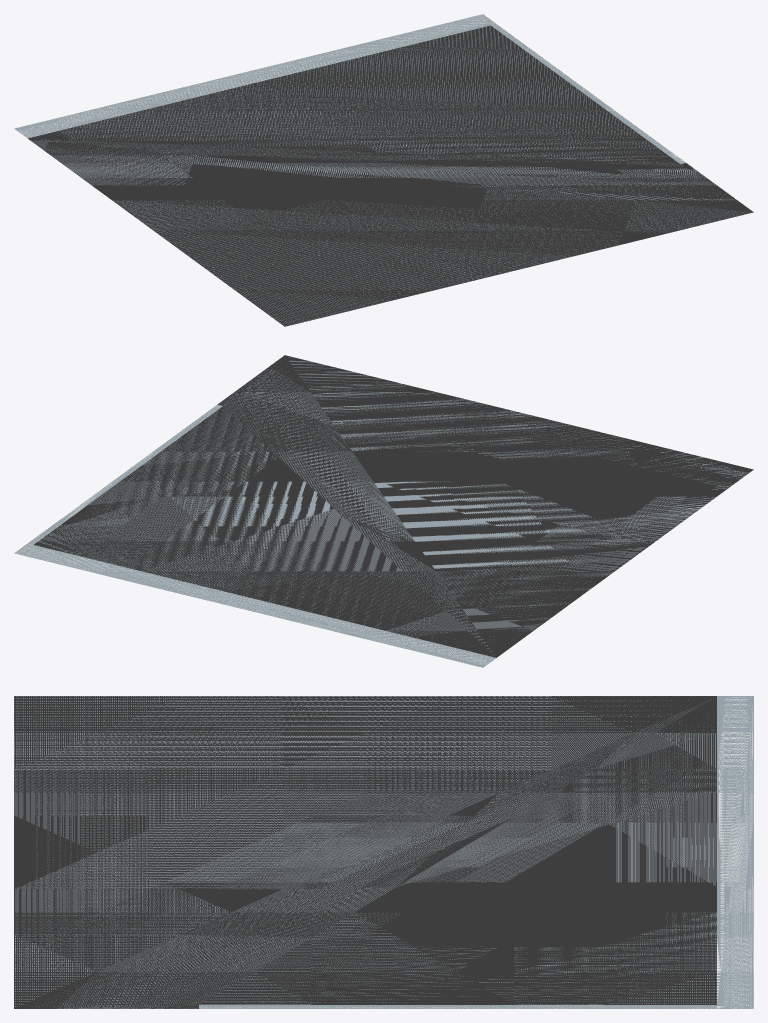
File: lane_end_side_left.fbx
The picture shows the model from 3 angles, top to bottom: view 1: azimuth 30°, elevation 25°; view 2: azimuth 150°, elevation 25°; view 3: azimuth 270°, elevation 25°; orthographic projection. The views are drawn at different scales.
Visible parts, largest first — view 1: Model; view 2: Model; view 3: Model.
Part boxes in pixels (x1=…): Model: x1=14, y1=14, x2=753, y2=326; Model: x1=14, y1=355, x2=753, y2=667; Model: x1=14, y1=696, x2=753, y2=1008.
Bounding box in the file's own units: 4 × 0 × 4.
